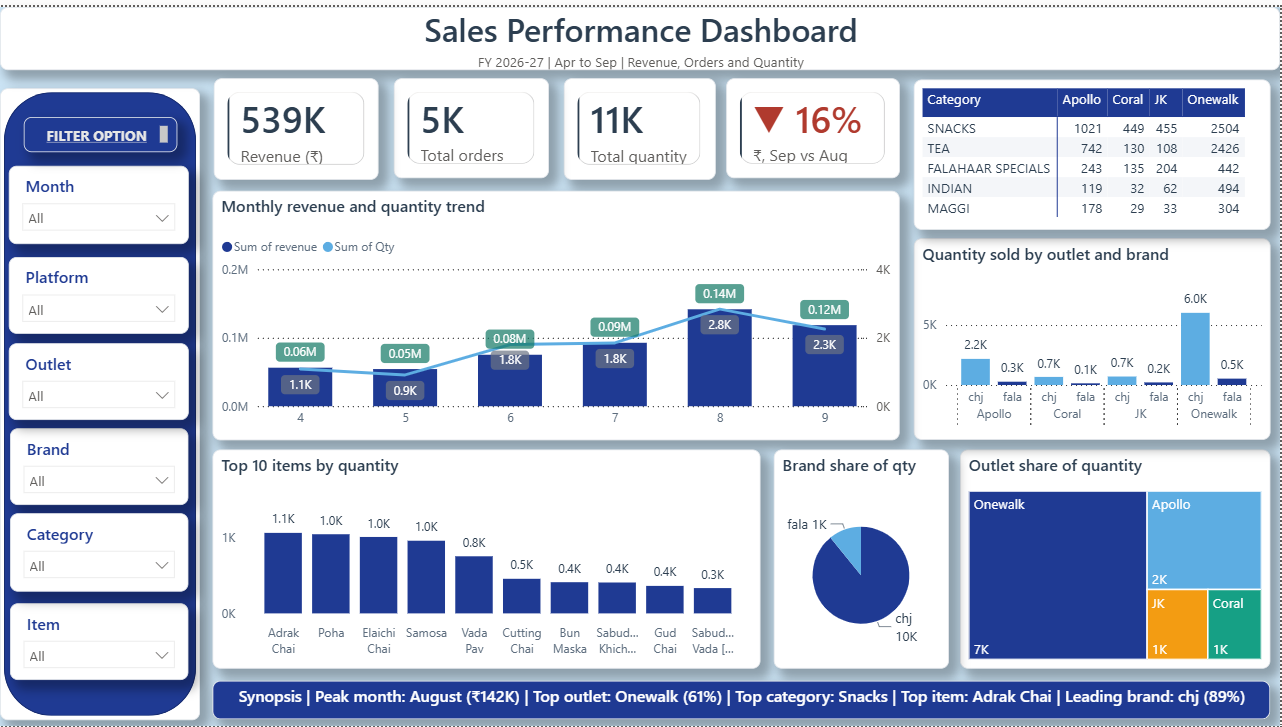

The dashboard page shown, as its layout file describes it:
{"tool":"powerbi","page":{"name":"rough","canvas":[1280,720],"ordinal":0},"visuals":[{"type":"shape","box":[0,81.7,200,631.7],"z":0},{"type":"textbox","title":"Sales Performance Dashboard","box":[0,0,1280.3,63.6],"z":1000},{"type":"cardVisual","fields":{"Data":["Measure.total qty"]},"box":[563.3,71.7,151.6,101.5],"z":2000},{"type":"cardVisual","fields":{"Data":["Measure.total orders"]},"box":[393.3,71.7,155.3,100.3],"z":3000},{"type":"treemap","title":"Outlet share of quantity","fields":{"Group":["ECOM (YTD).Outlet"],"Values":["Sum(ECOM (YTD).Qty)"]},"box":[959.9,442.7,310.6,218.9],"z":4000},{"type":"cardVisual","fields":{"Data":["measure.Total revenue"]},"box":[213.3,71.7,165.1,101.5],"z":5000},{"type":"clusteredColumnChart","title":"Quantity sold by outlet and brand","fields":{"Category":["ECOM (YTD).Outlet","ECOM (YTD).Brand"],"Y":["Sum(ECOM (YTD).Qty)"]},"box":[913.5,231.1,357.1,201.8],"z":6000},{"type":"cardVisual","fields":{"Data":["measure.MoM Label"]},"box":[726.7,71.7,173.3,100],"z":7000},{"type":"lineStackedColumnComboChart","title":"Monthly revenue and quantity trend","fields":{"Y2":["Sum(ECOM (YTD).Qty)"],"Y":["Sum(revenue_by_month.revenue)"],"Category":["revenue_by_month.month"]},"box":[212.8,183.4,687.2,249.5],"z":8000},{"type":"pivotTable","fields":{"Rows":["ECOM (YTD).Category"],"Columns":["ECOM (YTD).Outlet"],"Values":["Sum(ECOM (YTD).Qty)"]},"box":[913.5,72.1,357.1,150.4],"z":9000},{"type":"slicer","fields":{"Values":["ECOM (YTD).Month"]},"box":[8.3,158.3,180,78.3],"z":10000},{"type":"slicer","fields":{"Values":["ECOM (YTD).Platform"]},"box":[8.3,250,180,76.7],"z":11000},{"type":"slicer","fields":{"Values":["ECOM (YTD).Brand"]},"box":[10,421.7,178.3,76.7],"z":12000},{"type":"slicer","fields":{"Values":["ECOM (YTD).Outlet"]},"box":[8.3,336.7,180,76.7],"z":13000},{"type":"slicer","fields":{"Values":["ECOM (YTD).Item"]},"box":[10,596.7,178.3,76.7],"z":14000},{"type":"slicer","fields":{"Values":["ECOM (YTD).Category"]},"box":[10,506.7,178.3,78.3],"z":15000},{"type":"textbox","box":[23.3,110,153.3,35],"z":16000},{"type":"columnChart","title":"Top 10 items by quantity","fields":{"Y":["Sum(ECOM (YTD).Qty)"],"Category":["ECOM (YTD).Item"]},"box":[212.8,442.7,547.8,218.9],"z":17000},{"type":"pieChart","title":"Brand share of qty","fields":{"Category":["ECOM (YTD).Brand"],"Y":["Sum(ECOM (YTD).Qty)"]},"box":[774.1,442.7,174.9,218.9],"z":18000},{"type":"shape","title":"Synopsis | Peak month: August (₹142K) | Top outlet: Onewalk (61%) | Top category: Snacks | Top item: Adrak Chai | Leading brand: chj (89%)","box":[212.5,673.8,1057.5,38.8],"z":19000}]}

Visuals, with their boxes in screenshot pixels (x1, y1, x2, y2), scaled from the page's 1280x720 canvas onto the 1282x727 screenshot:
shape: [x1=0, y1=82, x2=200, y2=720]
"Sales Performance Dashboard" textbox: [x1=0, y1=0, x2=1281, y2=64]
cardVisual - Measure.total qty: [x1=564, y1=72, x2=716, y2=175]
cardVisual - Measure.total orders: [x1=394, y1=72, x2=549, y2=174]
"Outlet share of quantity" treemap: [x1=961, y1=447, x2=1272, y2=668]
cardVisual - measure.Total revenue: [x1=214, y1=72, x2=379, y2=175]
"Quantity sold by outlet and brand" clusteredColumnChart: [x1=915, y1=233, x2=1273, y2=437]
cardVisual - measure.MoM Label: [x1=728, y1=72, x2=901, y2=173]
"Monthly revenue and quantity trend" lineStackedColumnComboChart: [x1=213, y1=185, x2=901, y2=437]
pivotTable - ECOM (YTD).Category x ECOM (YTD).Outlet: [x1=915, y1=73, x2=1273, y2=225]
slicer - ECOM (YTD).Month: [x1=8, y1=160, x2=189, y2=239]
slicer - ECOM (YTD).Platform: [x1=8, y1=252, x2=189, y2=330]
slicer - ECOM (YTD).Brand: [x1=10, y1=426, x2=189, y2=503]
slicer - ECOM (YTD).Outlet: [x1=8, y1=340, x2=189, y2=417]
slicer - ECOM (YTD).Item: [x1=10, y1=603, x2=189, y2=680]
slicer - ECOM (YTD).Category: [x1=10, y1=512, x2=189, y2=591]
textbox: [x1=23, y1=111, x2=177, y2=146]
"Top 10 items by quantity" columnChart: [x1=213, y1=447, x2=762, y2=668]
"Brand share of qty" pieChart: [x1=775, y1=447, x2=950, y2=668]
"Synopsis | Peak month: August (₹142K) | Top outlet: Onewalk (61%) | Top category: Snacks | Top item: Adrak Chai | Leading brand: chj (89%)" shape: [x1=213, y1=680, x2=1272, y2=720]
